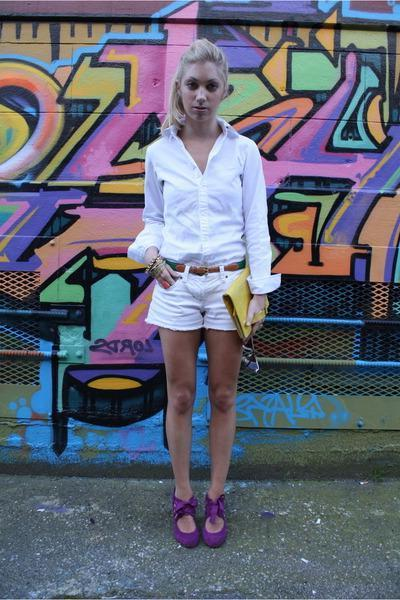Shorts: (143, 263, 248, 331)
long sleeve shirt: (127, 120, 272, 297)
